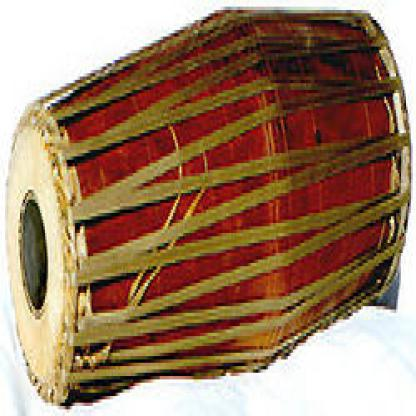Mridangam: (1, 1, 416, 414)
